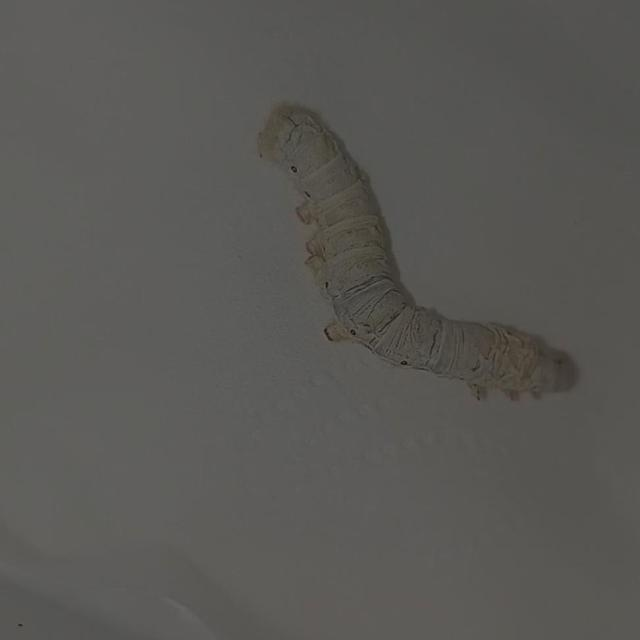Healthy: (250, 91, 597, 409)
